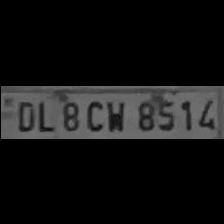1: (175, 96, 193, 132)
4: (194, 94, 216, 130)
5: (154, 96, 174, 132)
8: (132, 96, 156, 132), (58, 98, 80, 132)
C: (81, 96, 103, 132)
D: (12, 98, 34, 132)
L: (32, 96, 54, 132)
W: (104, 97, 126, 133)
